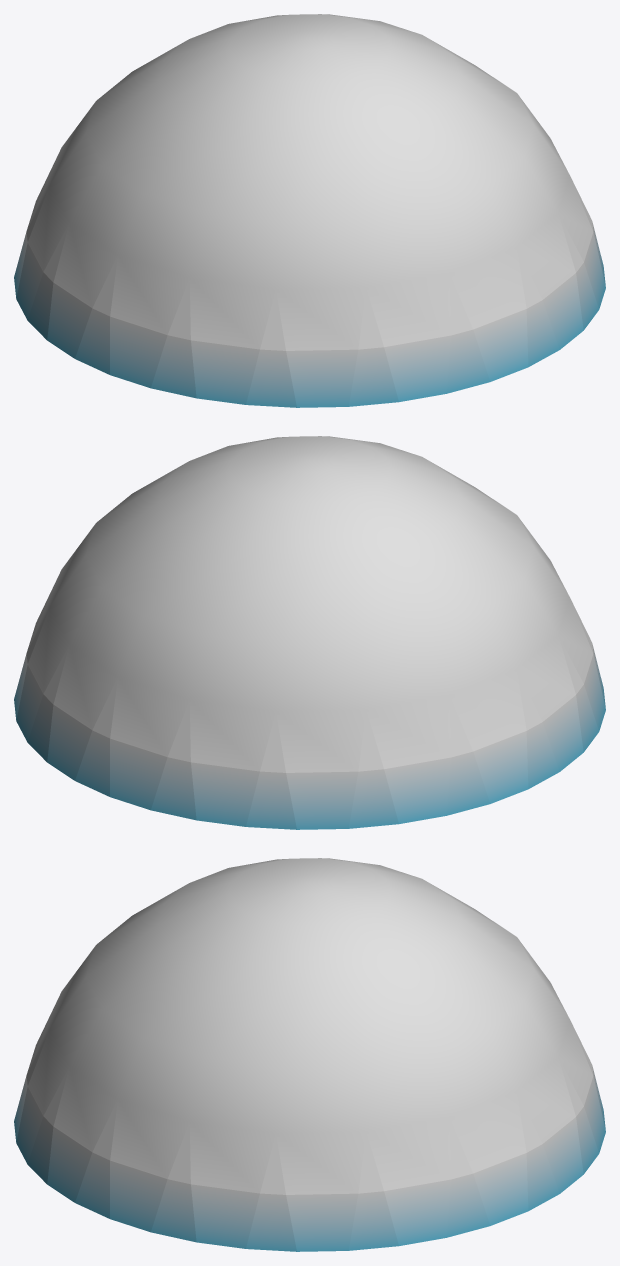
File: E3D-Hemisphere20.FBX
3 views of the same model, one above another, from view 1: azimuth 30°, elevation 25°; view 2: azimuth 150°, elevation 25°; view 3: azimuth 270°, elevation 25° (orthographic).
Visible parts, largest first — view 1: 2efb_sfr10; view 2: 2efb_sfr10; view 3: 2efb_sfr10.
Boxes of the visible parts, x1,y1,x2,y2 form: 2efb_sfr10: (14, 14, 605, 407); 2efb_sfr10: (14, 436, 605, 829); 2efb_sfr10: (14, 858, 605, 1251).
Bounding box in the file's own units: 13.35 × 6.06 × 13.35.
